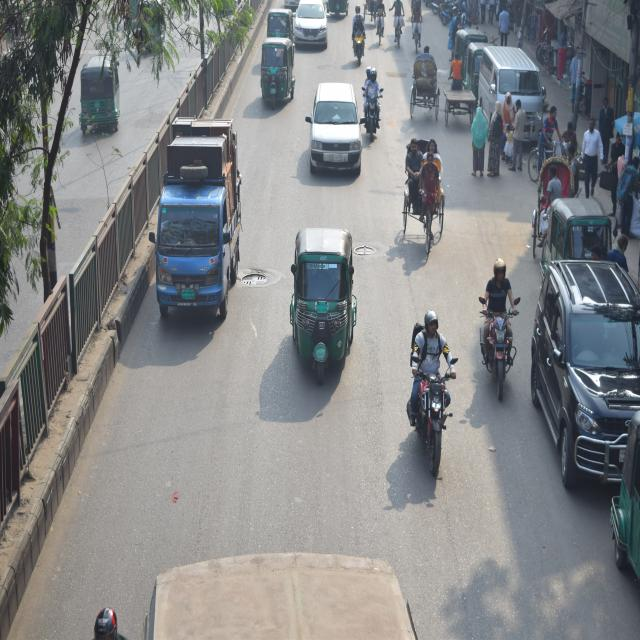bus: (132, 538, 444, 640)
car: (526, 256, 640, 506), (307, 76, 364, 180), (291, 0, 332, 50)
microbus: (480, 43, 548, 148)
motorbike: (398, 332, 466, 491), (474, 281, 522, 398), (358, 73, 388, 151), (346, 17, 374, 72)
pickup-van: (150, 109, 249, 323)
